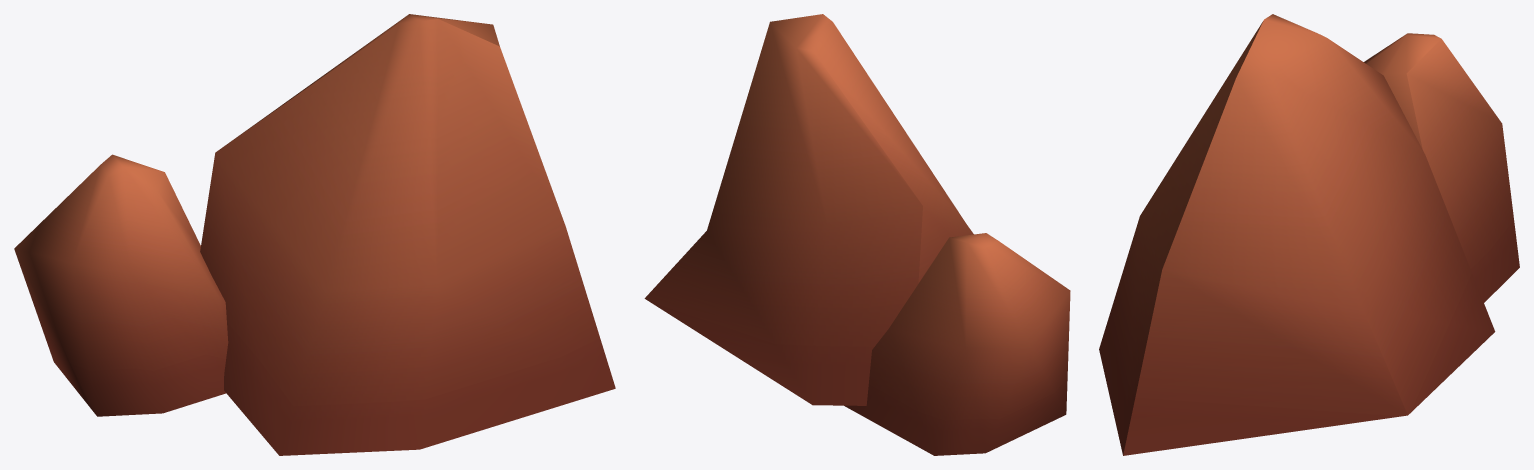
Rendered from rock.009.fbx.
3 renders of one model, left to right at view 1: azimuth 30°, elevation 25°; view 2: azimuth 150°, elevation 25°; view 3: azimuth 270°, elevation 25°, orthographic. The views are drawn at different scales.
Visible parts, largest first — view 1: rock.009; view 2: rock.009; view 3: rock.009.
Part boxes in pixels (x1=…): rock.009: x1=14, y1=14, x2=615, y2=455; rock.009: x1=644, y1=14, x2=1070, y2=455; rock.009: x1=1099, y1=14, x2=1519, y2=455.
Bounding box in the file's own units: 4.49 × 3.28 × 3.29.
